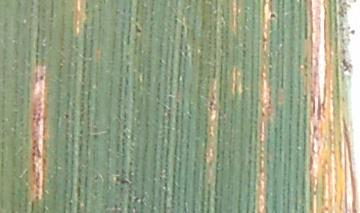tarspot: (111, 175, 132, 187), (129, 23, 145, 34), (267, 9, 278, 20)
